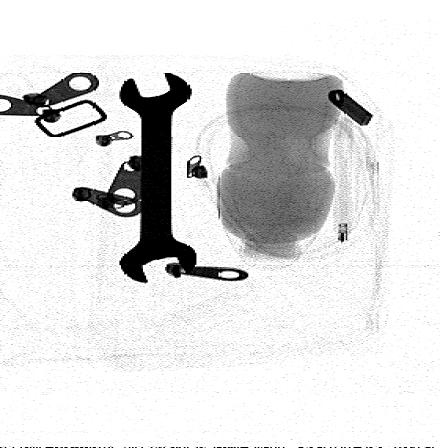Wrench: (117, 71, 197, 284)
